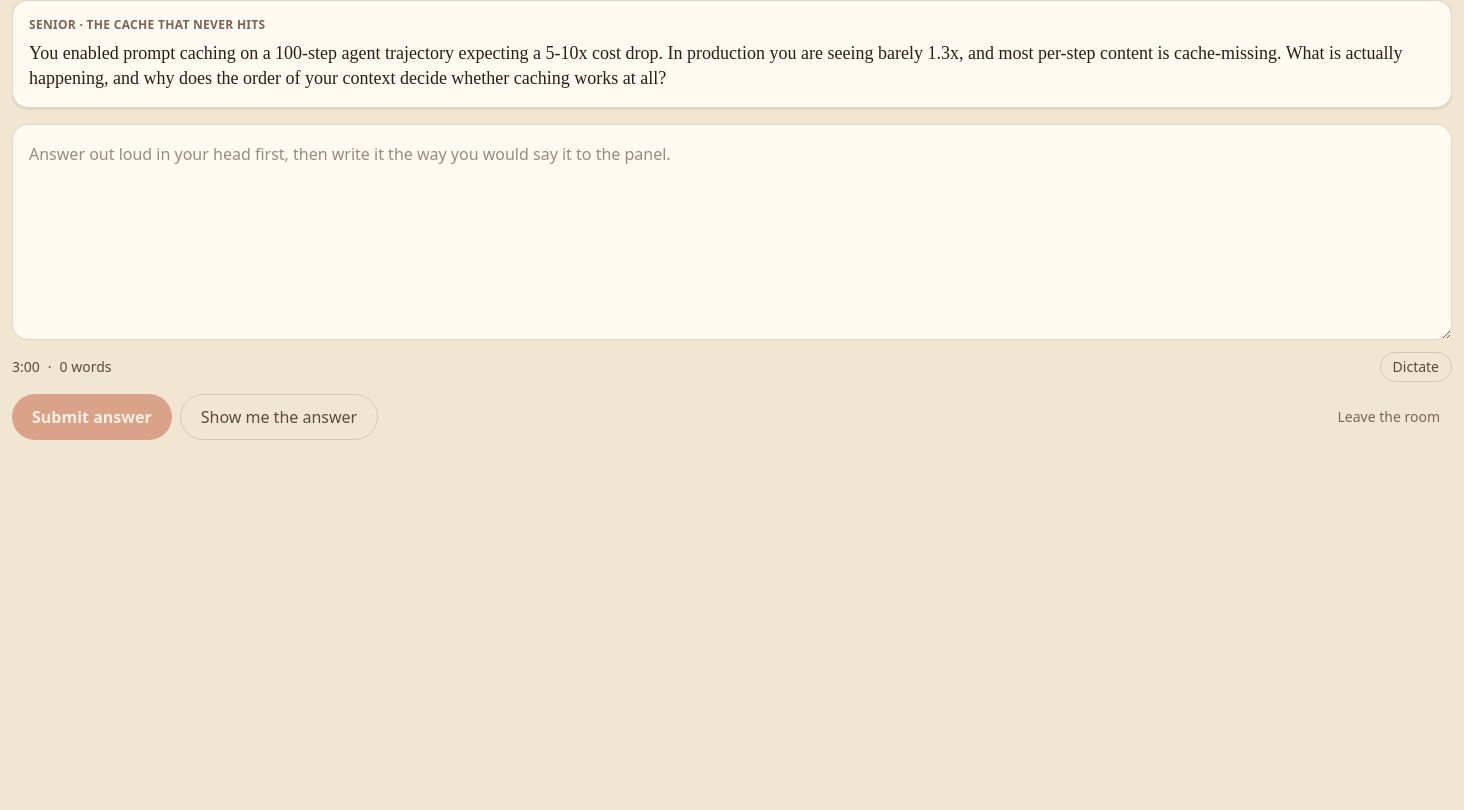
Test case: InterviewPanel › shows the answer without scoring when the candidate gives up, and records nothing
Step 1. Click the button "Show me the answer" → (279, 416), box [180, 394, 378, 440]
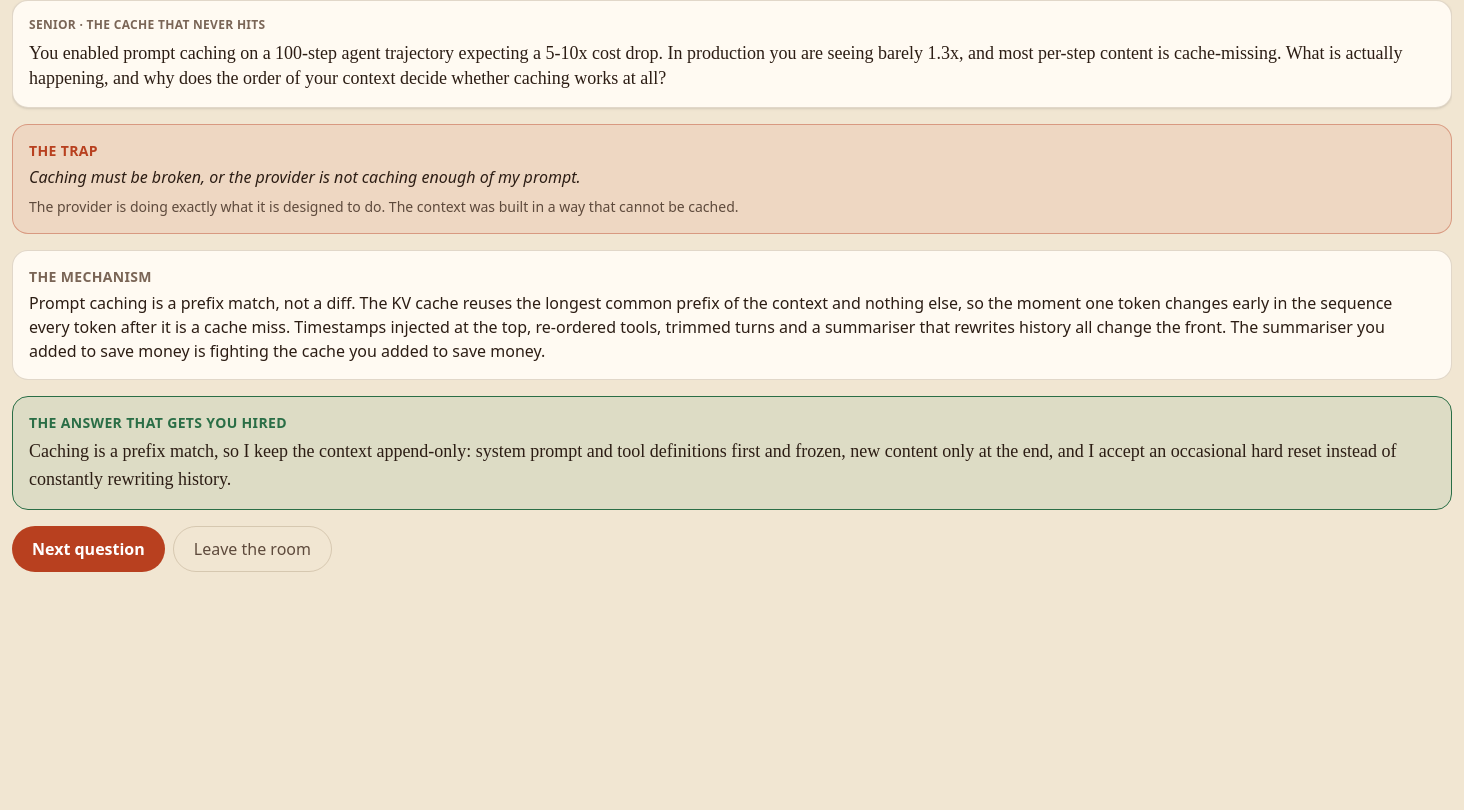
Expected: the text "Caching is a prefix match, so I keep the context append-only: system prompt and tool definitions first and frozen, new c" is shown, [29, 440, 1397, 488]
